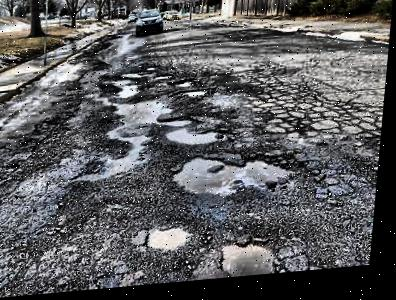pothole: (172, 151, 302, 204), (218, 239, 286, 282), (166, 126, 233, 150), (148, 226, 196, 253), (179, 89, 215, 102), (160, 119, 195, 129), (174, 80, 198, 91), (153, 75, 175, 83)
